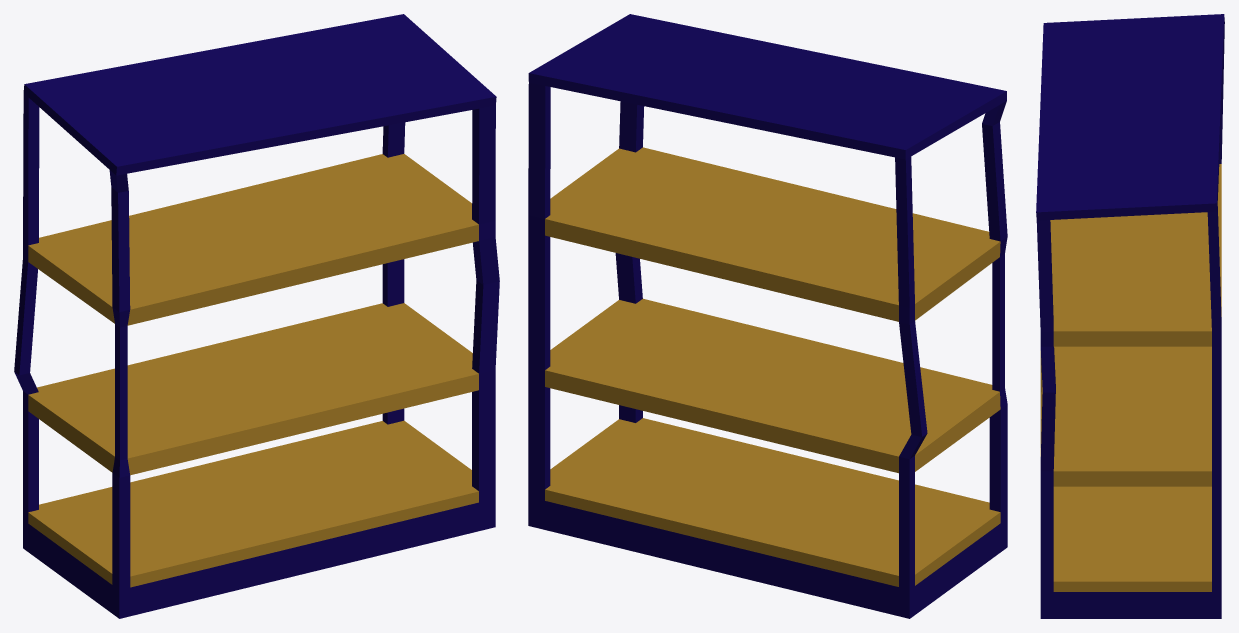
The model's file is SM_Storage_Rack.fbx.
The picture shows the model from 3 angles, left to right: view 1: azimuth 30°, elevation 25°; view 2: azimuth 150°, elevation 25°; view 3: azimuth 270°, elevation 25°; orthographic projection. The views are drawn at different scales.
Parts seen in each view (by area): view 1: Sotrage_Rack; view 2: Sotrage_Rack; view 3: Sotrage_Rack.
Part boxes in pixels (x1,y1,x2,y2): Sotrage_Rack: (14, 14, 499, 618); Sotrage_Rack: (528, 14, 1007, 618); Sotrage_Rack: (1036, 14, 1224, 618).
Bounding box in the file's own units: 260 × 294 × 116.
